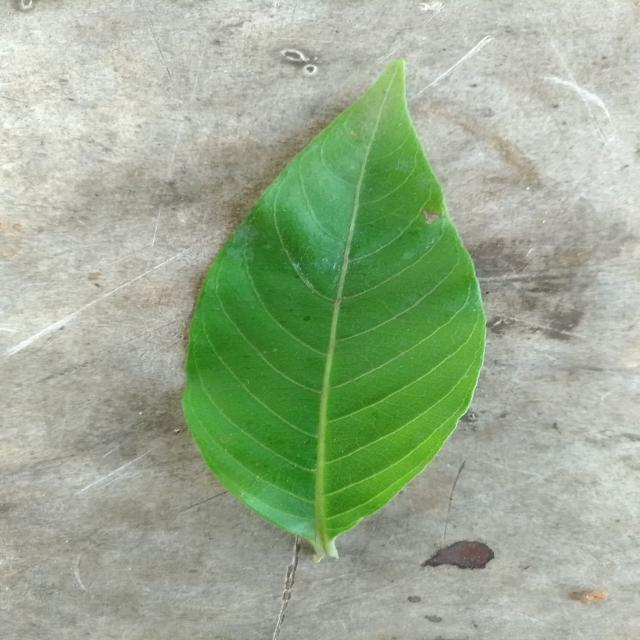malabar_nut: (182, 60, 484, 560)
